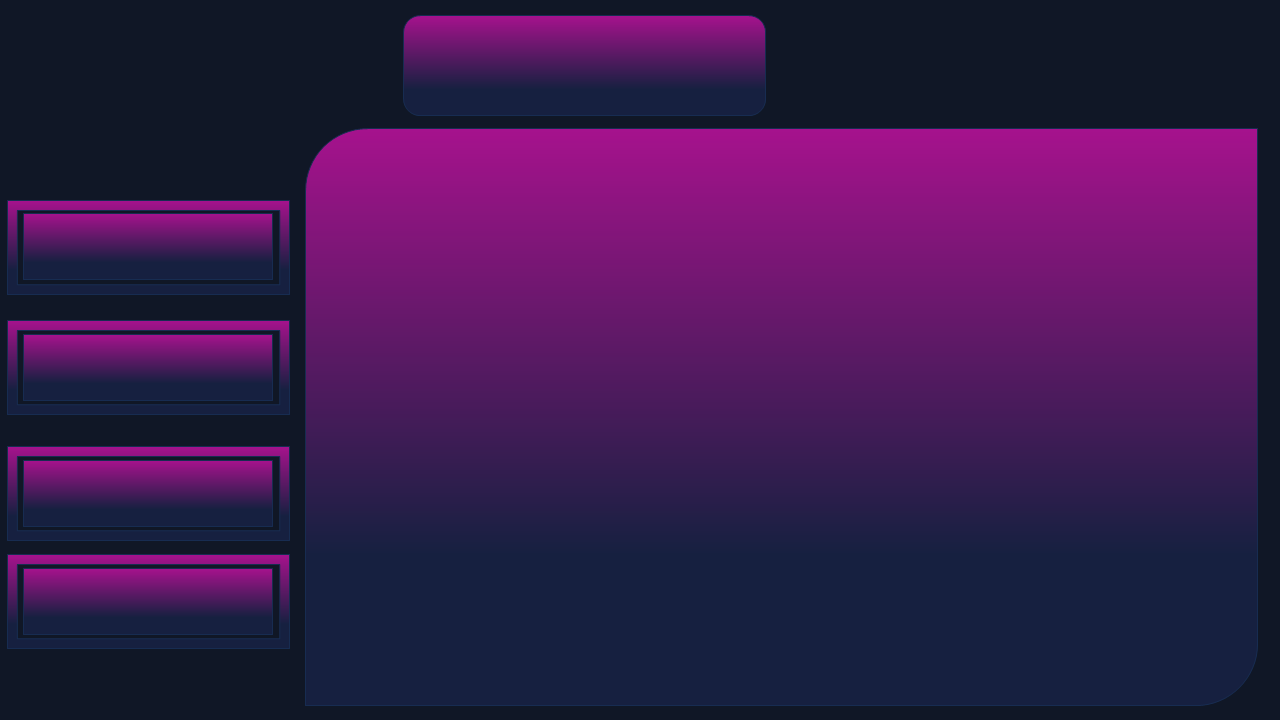

The page's visual inventory and layout, read from the dashboard file:
{"tool":"powerbi","page":{"name":"Detail","canvas":[1280,720],"ordinal":1},"visuals":[{"type":"slicer","fields":{"Values":["All_Data.Archive_Date"]},"box":[416,16,320,112],"z":0},{"type":"slicer","fields":{"Values":["All_Data.Case_Type"]},"box":[16,208,256,80],"z":1000},{"type":"slicer","fields":{"Values":["All_Data.Specialty_Name"]},"box":[16,560,256,80],"z":2000},{"type":"textbox","box":[16,16,320,112],"z":3000},{"type":"slicer","fields":{"Values":["All_Data.Age_Profile"]},"box":[16,336,256,80],"z":4000},{"type":"slicer","fields":{"Values":["All_Data.Time_Bands"]},"box":[16,448,256,80],"z":5000},{"type":"pivotTable","fields":{"Rows":["All_Data.Archive_Date","All_Data.Specialty_Name","All_Data.Age_Profile","All_Data.Time_Bands"],"Columns":["All_Data.Case_Type"],"Values":["Sum(All_Data.Total)"]},"box":[336,144,912,544],"z":6000},{"type":"actionButton","box":[15.7,104.3,40,40],"z":7000}]}

Visuals, with their boxes in screenshot pixels (x1, y1, x2, y2), scaled from the page's 1280x720 canvas onto the 1280x720 screenshot:
slicer - All_Data.Archive_Date: 416 16 736 128
slicer - All_Data.Case_Type: 16 208 272 288
slicer - All_Data.Specialty_Name: 16 560 272 640
textbox: 16 16 336 128
slicer - All_Data.Age_Profile: 16 336 272 416
slicer - All_Data.Time_Bands: 16 448 272 528
pivotTable - All_Data.Archive_Date x All_Data.Specialty_Name: 336 144 1248 688
actionButton: 16 104 56 144
